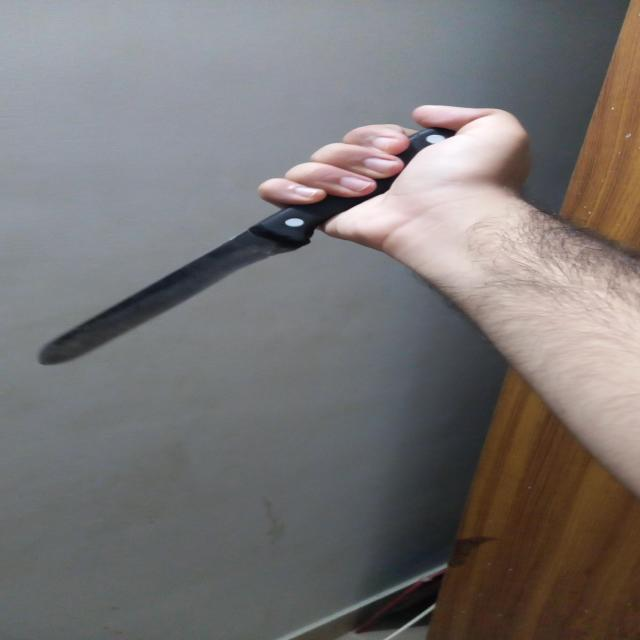faca: (37, 127, 458, 366)
